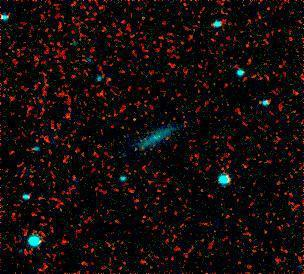star: (122, 108, 152, 138)
